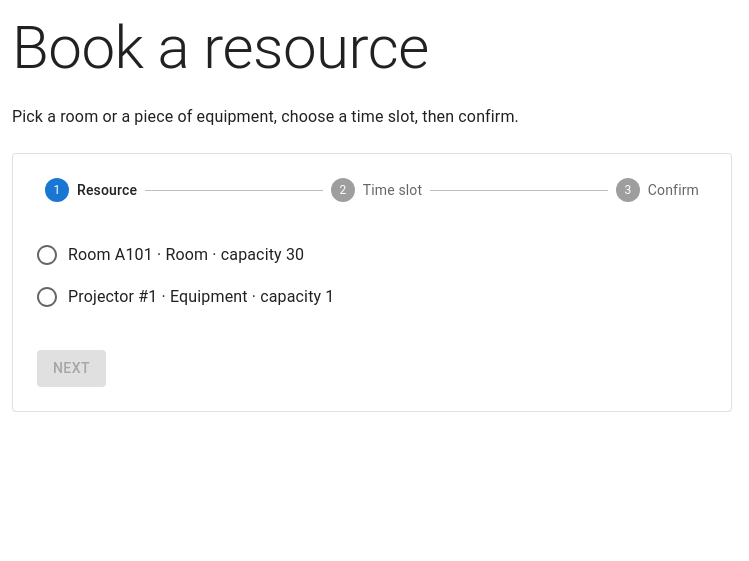
Test: BookingPage (US-03, US-07) › links the slot fields to the rules and the error message (accessibility)
Click the radio button labelled "Room A101 · Room · capacity 30" at (170,255), box [35,243,304,267]
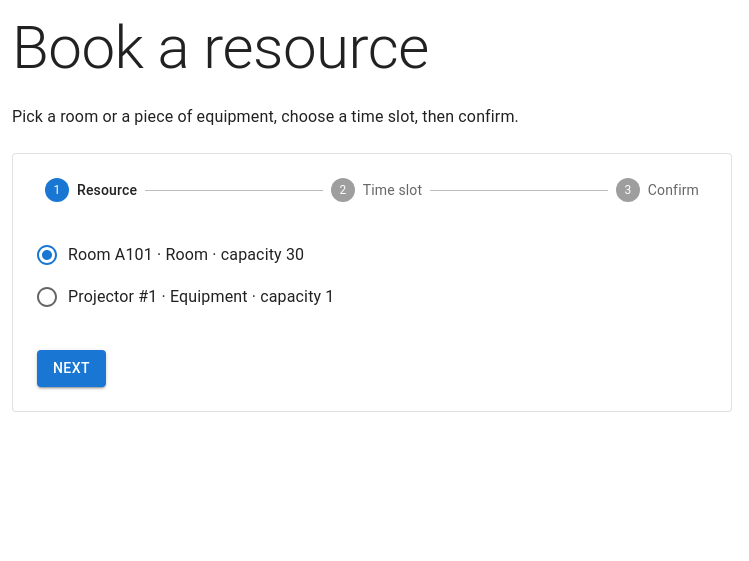
Click the button "Next" at (71,368), box [37,350,106,386]
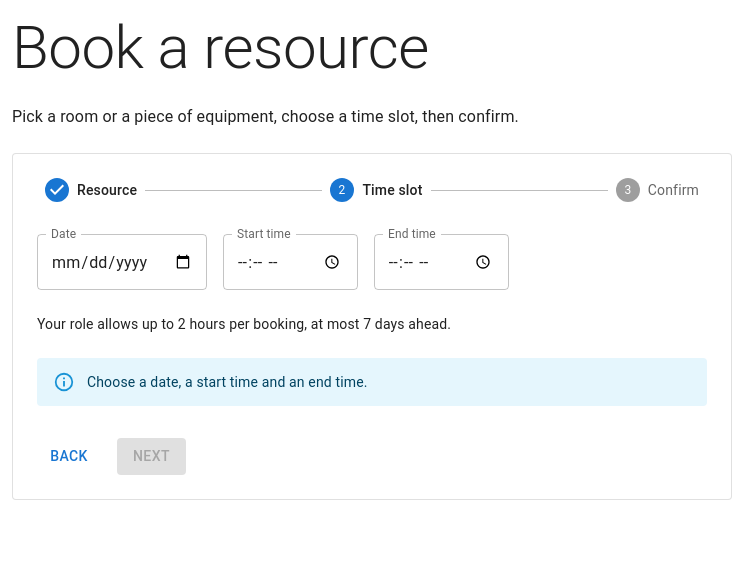
Type "2026-12-01" into the date field labelled "Date" at (122,262), box [37,234,207,290]
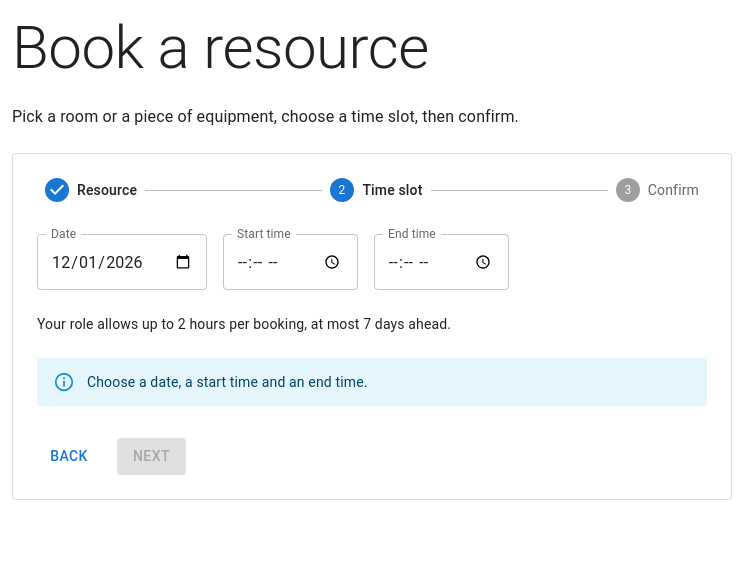
Type "10:00" into the time field labelled "Start time" at (290,262), box [223,234,358,290]
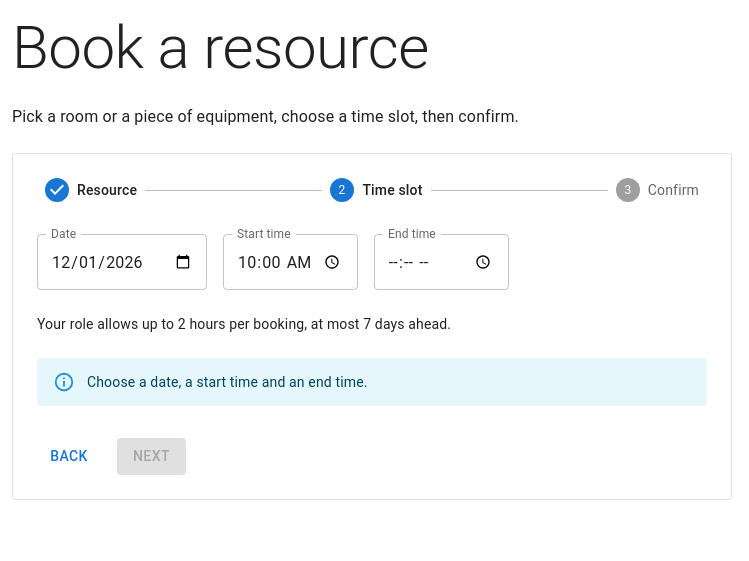
Type "13:00" into the time field labelled "End time" at (441,262), box [374,234,509,290]
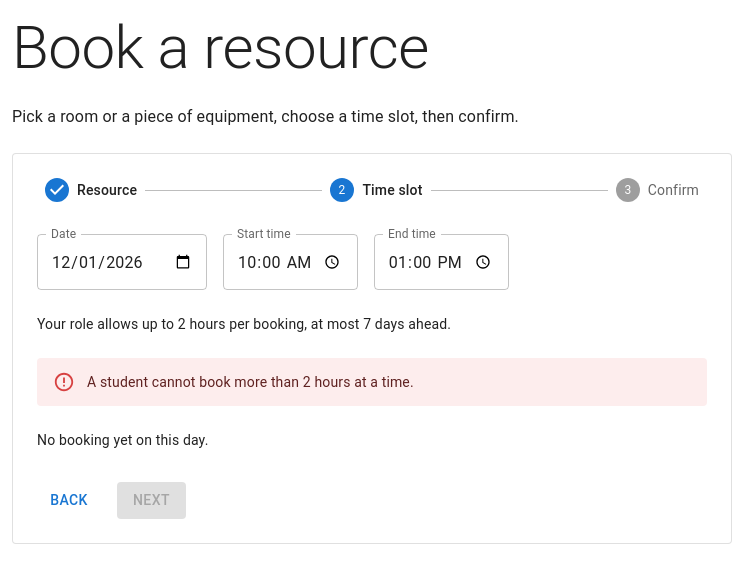
Expected: the time field labelled "End time" is marked as invalid, [374,234,509,290]
